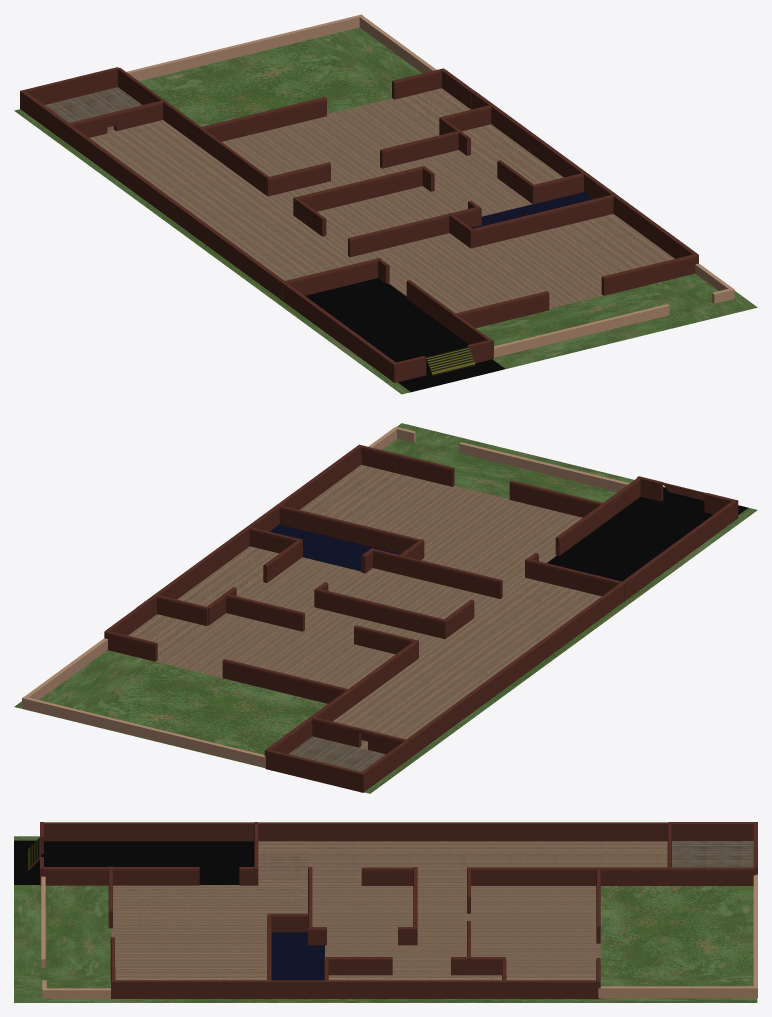
The model's file is mapNew.fbx.
3 renders of one model, top to bottom at view 1: azimuth 30°, elevation 25°; view 2: azimuth 150°, elevation 25°; view 3: azimuth 270°, elevation 25°, orthographic. The views are drawn at different scales.
Visible parts, largest first — view 1: Plane, Cube.037, Cube.005, Cube.012, Cube, Cube.020, Cube.003, Cube.013, Cube.032, Cube.011, Cube.035, Cube.034 (+21 smaller); view 2: Plane, Cube.037, Cube, Cube.005, Cube.003, Cube.012, Cube.020, Cube.013, Cube.035, Cube.011, Cube.034, Cube.032 (+19 smaller); view 3: Plane, Cube.012, Cube.020, Cube.035, Cube.034, Cube.011, Cube.008, Cube.007, Cube.014, Cube.023, Cube.010, Cube.029 (+14 smaller).
Part boxes in pixels (x1,y1,x2,y2): Plane: (14, 27, 757, 394); Cube.037: (126, 14, 363, 81); Cube.005: (472, 195, 613, 247); Cube.012: (67, 124, 187, 228); Cube: (293, 166, 424, 216); Cube.020: (282, 282, 395, 380); Cube.003: (348, 206, 478, 257); Cube.013: (201, 97, 326, 141); Cube.032: (494, 304, 669, 357); Cube.011: (184, 210, 283, 298); Cube.035: (471, 91, 585, 177); Cube.034: (582, 172, 696, 258); Plane: (14, 423, 757, 793); Cube.037: (22, 697, 265, 767); Cube: (315, 588, 447, 638); Cube.005: (279, 505, 420, 553); Cube.003: (371, 548, 502, 598); Cube.012: (407, 653, 527, 757); Cube.020: (622, 501, 735, 599); Cube.013: (222, 659, 348, 703); Cube.035: (136, 527, 249, 626); Cube.011: (524, 583, 624, 671); Cube.034: (246, 446, 361, 531); Cube.032: (459, 442, 629, 491); Plane: (14, 836, 757, 1002); Cube.012: (443, 822, 667, 841); Cube.020: (44, 822, 254, 841); Cube.035: (327, 980, 539, 998); Cube.034: (115, 980, 327, 998); Cube.011: (258, 822, 442, 841); Cube.008: (600, 867, 755, 885); Cube.007: (470, 867, 599, 885); Cube.014: (598, 986, 755, 998); Cube.023: (112, 867, 199, 885); Cube.010: (671, 822, 757, 840); Cube.029: (44, 867, 113, 885).
Size of the model in its own units: 4077 by 205 by 7696.
